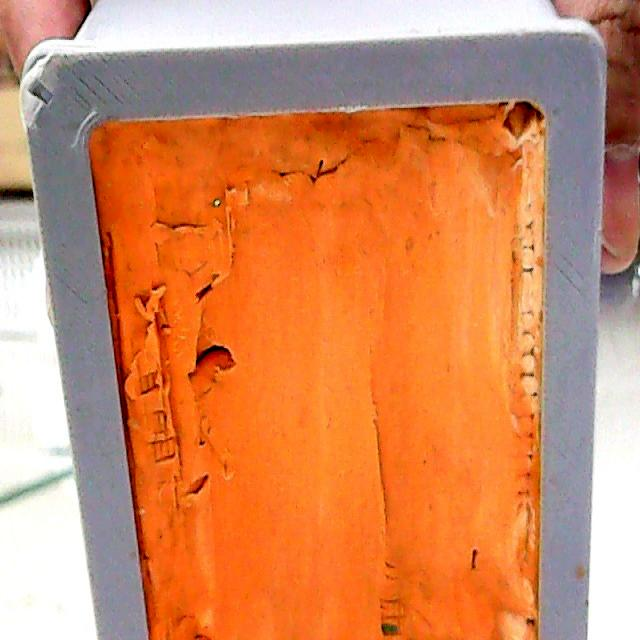block: (12, 0, 605, 633)
